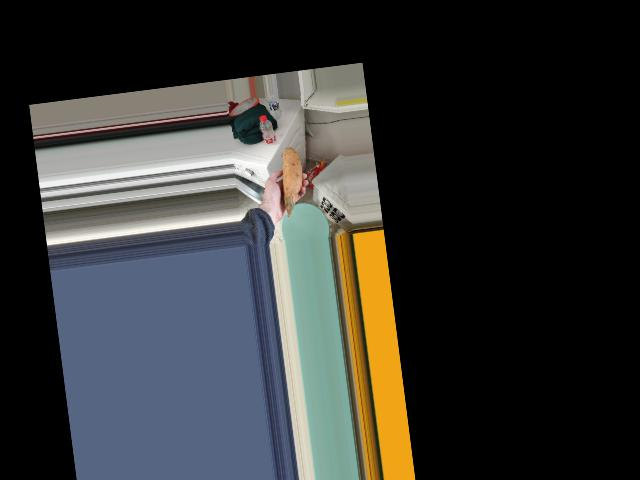sweet_potato: (282, 148, 311, 223)
